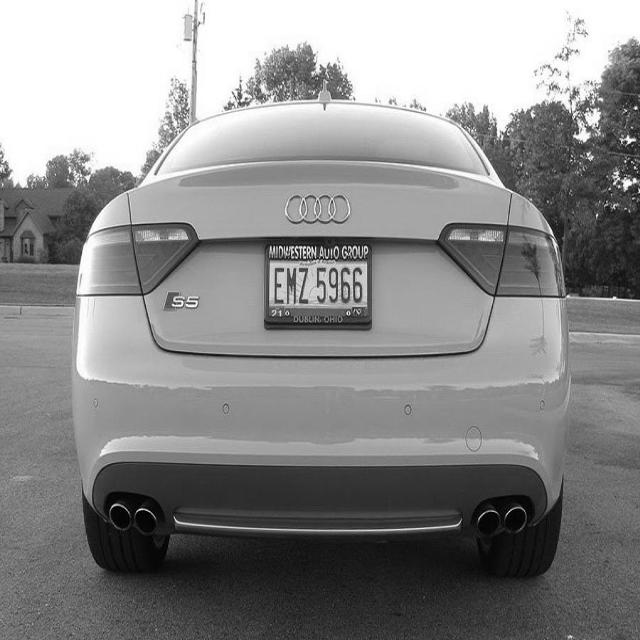car: (70, 84, 572, 579)
plat_license: (263, 240, 372, 329)
